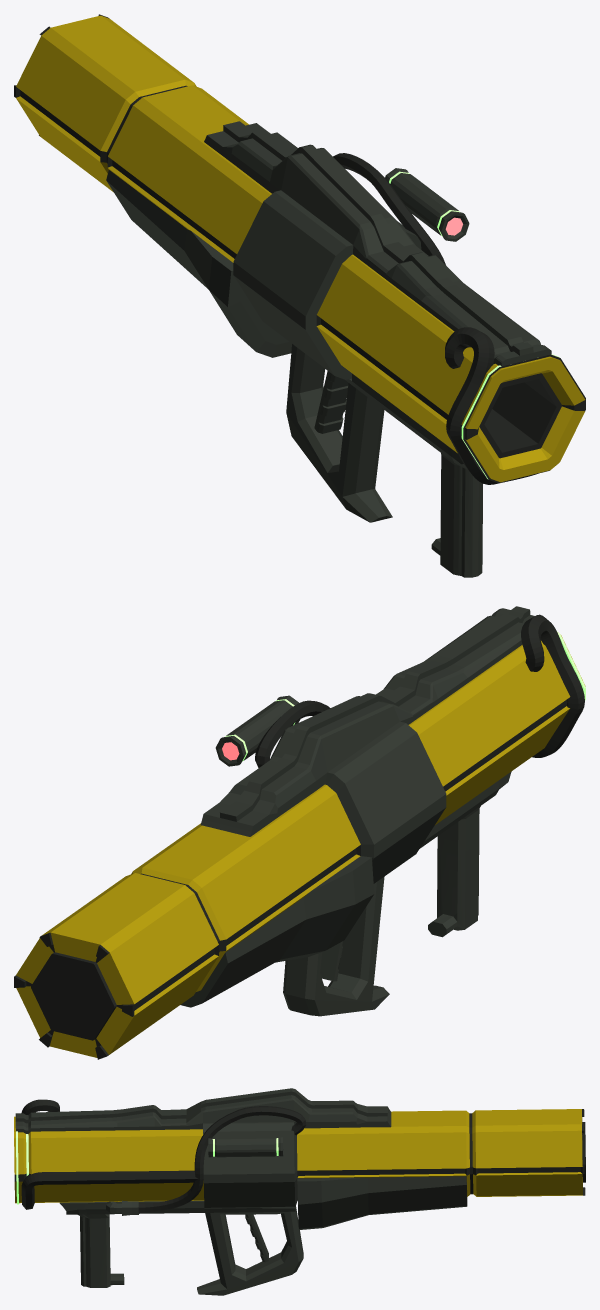
File: thermojumpRocket.fbx
The picture shows the model from 3 angles, top to bottom: view 1: azimuth 30°, elevation 25°; view 2: azimuth 150°, elevation 25°; view 3: azimuth 270°, elevation 25°; orthographic projection. The views are drawn at different scales.
Visible parts, largest first — view 1: Rocket.001; view 2: Rocket.001; view 3: Rocket.001.
Part boxes in pixels (left/top/right/bottom): Rocket.001: left=14, top=14, right=585, bottom=577; Rocket.001: left=14, top=606, right=585, bottom=1059; Rocket.001: left=14, top=1088, right=585, bottom=1295.
Bounding box in the file's own units: 45.93 × 82.13 × 212.
